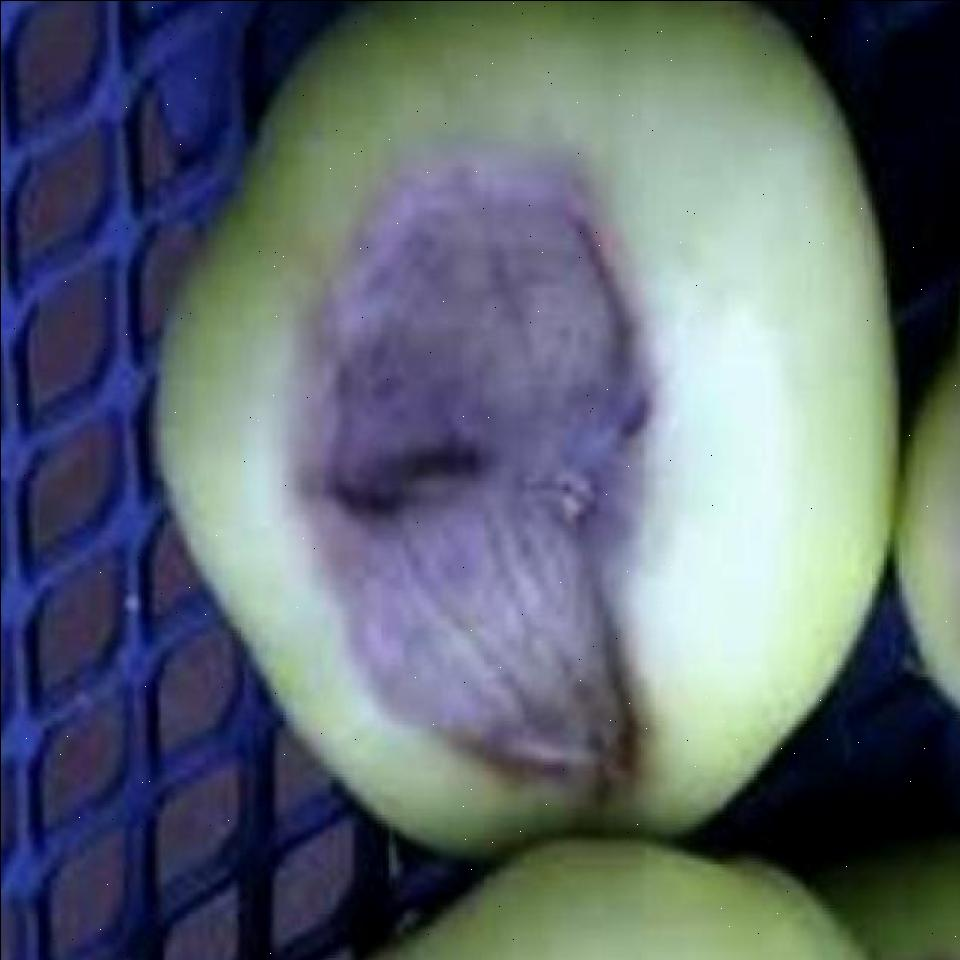Blossom_end_rot: (275, 147, 656, 802)
